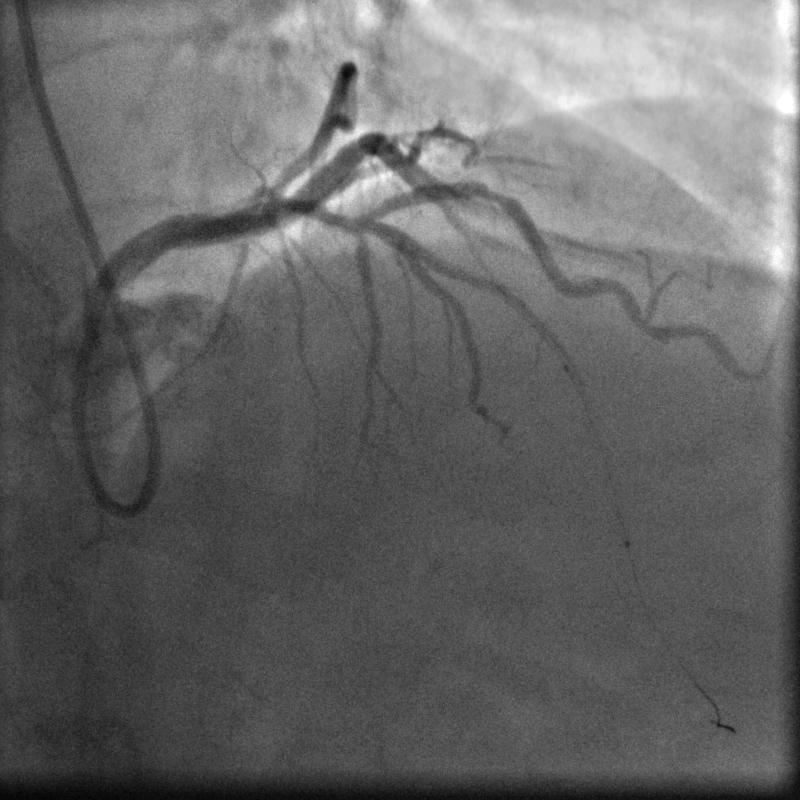Stenosis: (471, 175, 513, 216)
